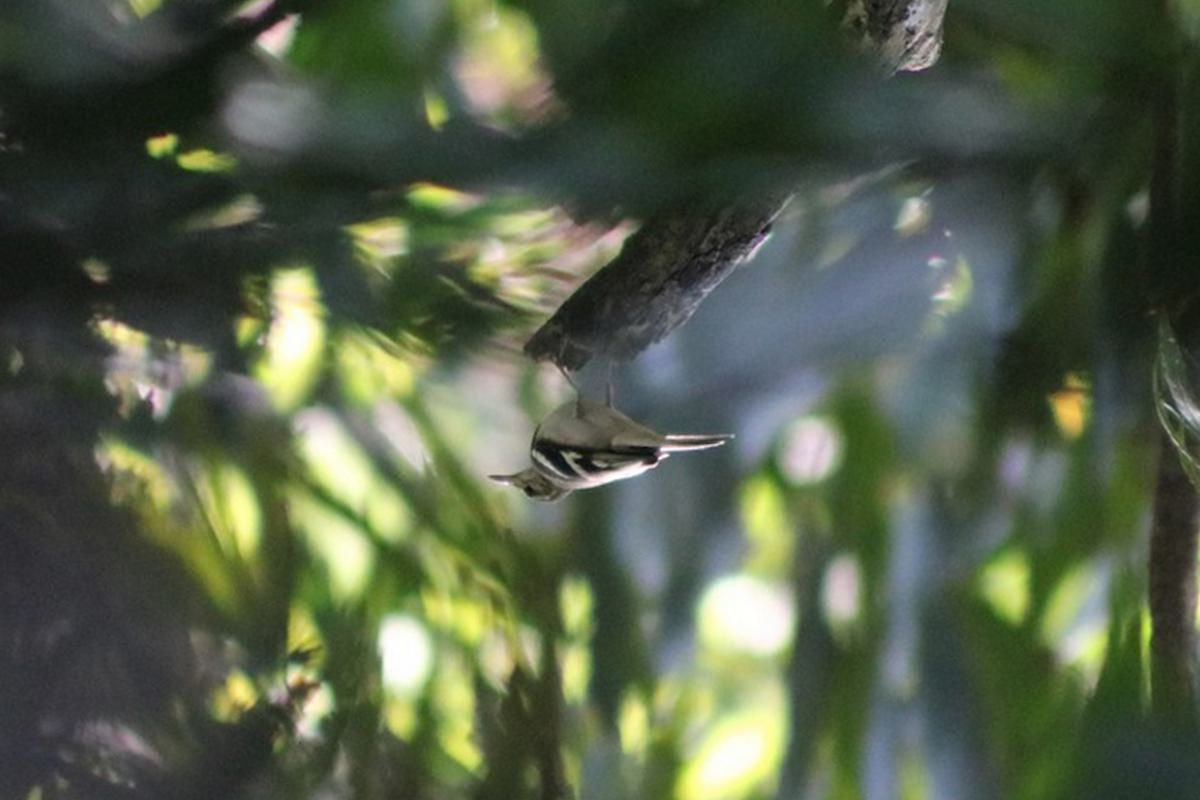wagtail: (495, 377, 724, 511)
